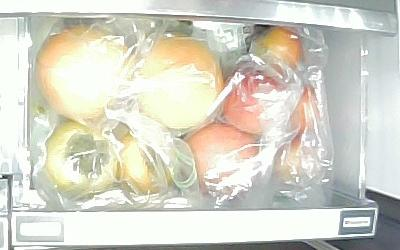apple_vinyl: (182, 121, 262, 199), (218, 60, 296, 134)
grapefruit_vinyl: (36, 26, 134, 120), (132, 33, 224, 131)
persimmon_vinyl: (44, 121, 122, 195), (121, 134, 176, 192)
prune_vinyl: (254, 28, 303, 74)
